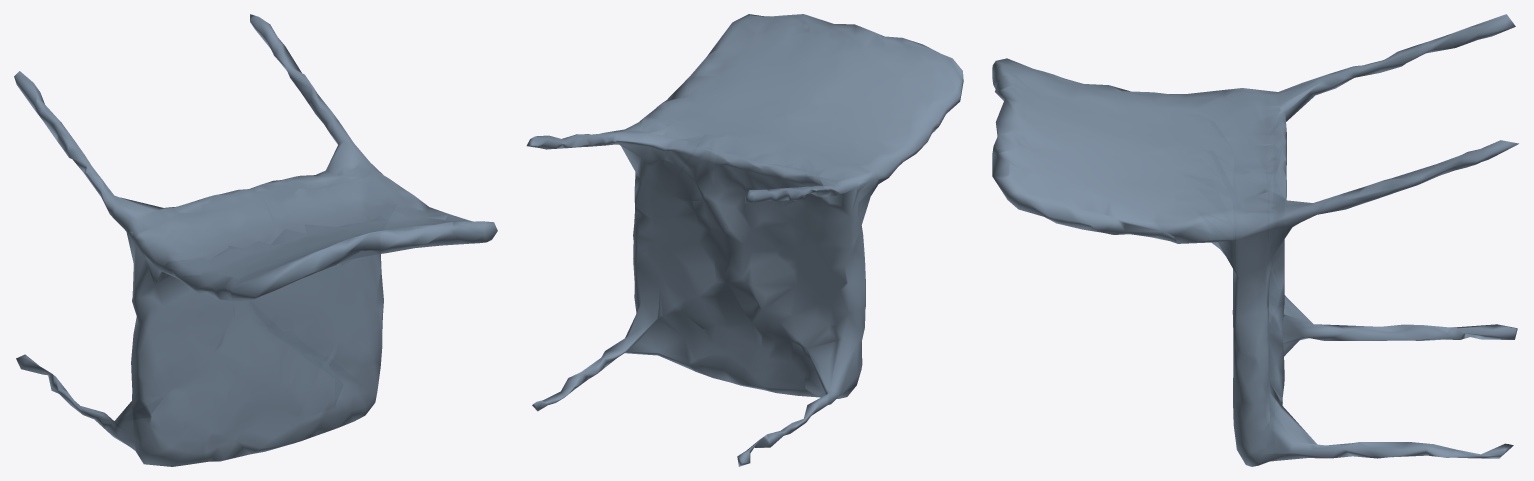
File: sample_312_orig.obj
The picture shows the model from 3 angles, left to right: view 1: azimuth 30°, elevation 25°; view 2: azimuth 150°, elevation 25°; view 3: azimuth 270°, elevation 25°; orthographic projection. The views are drawn at different scales.
Size of the model in its own units: 0.8182 by 0.9773 by 1.34.
